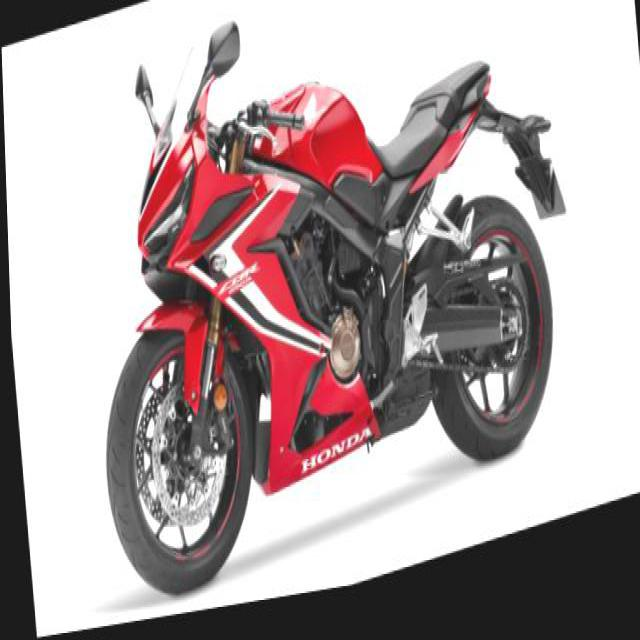CBR650R: (70, 0, 562, 619)
